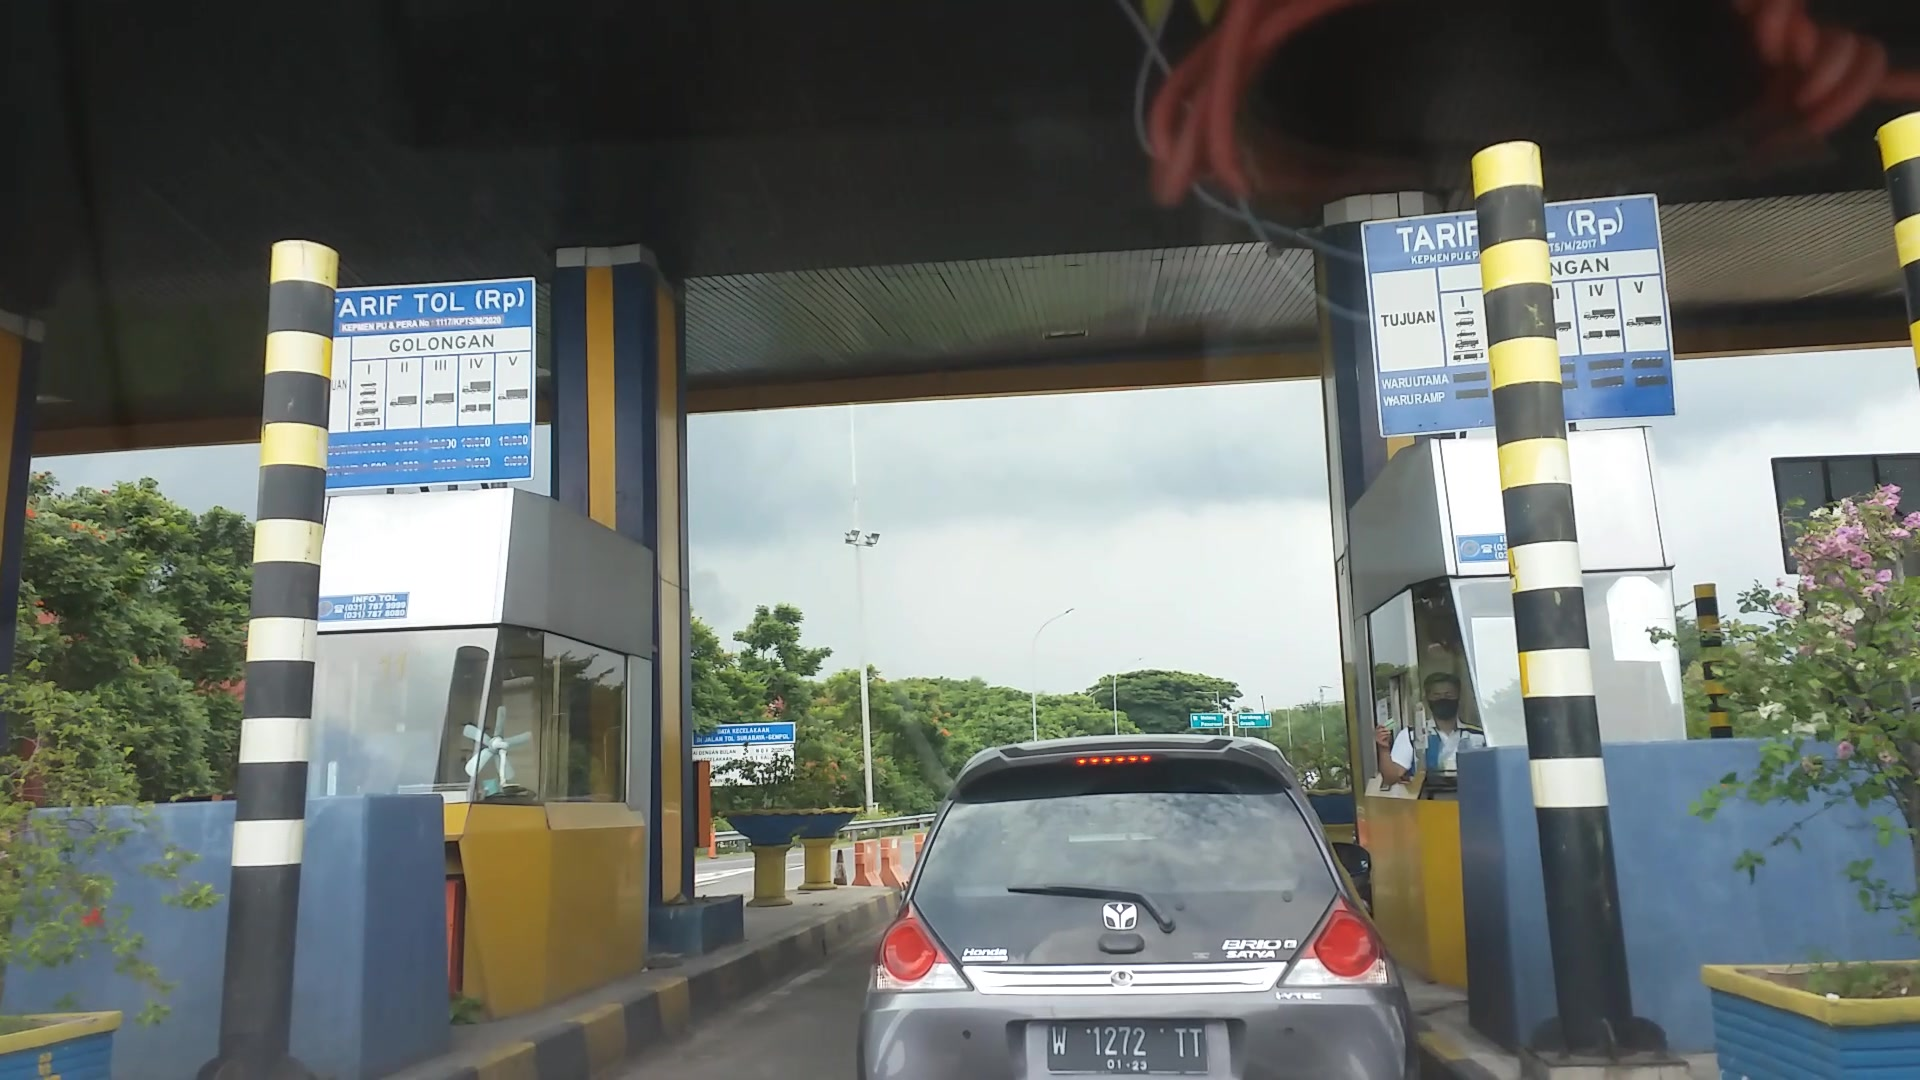plate_positive: (1048, 1021, 1209, 1072)
